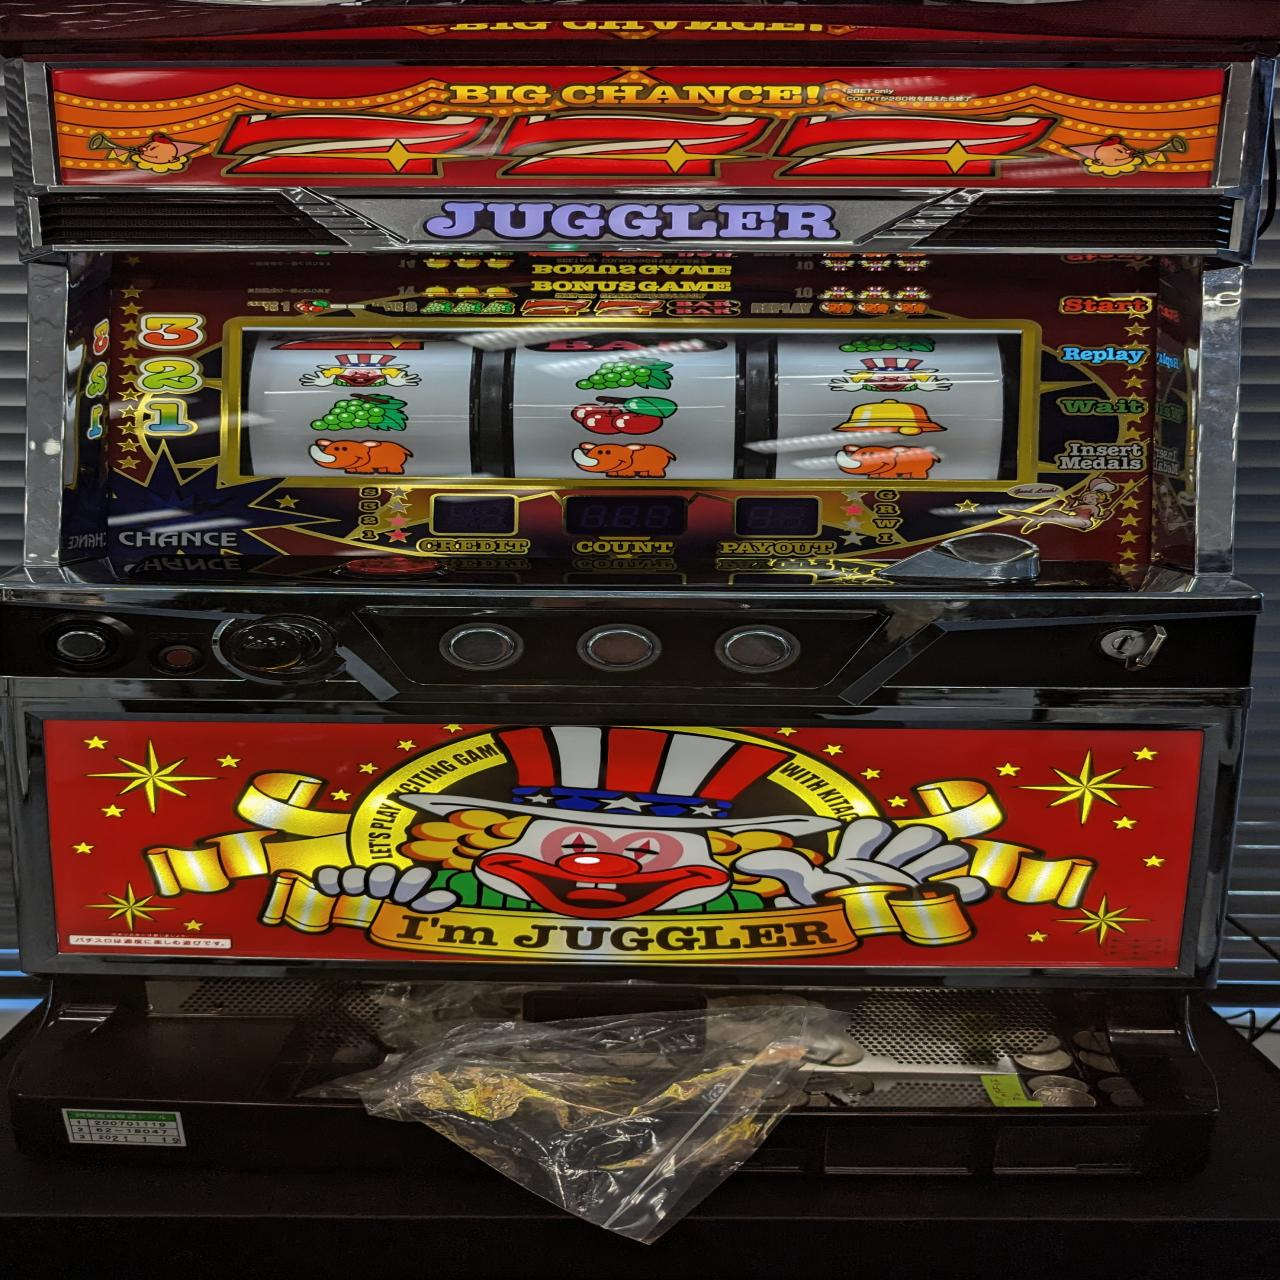Display: (229, 319, 1024, 486)
bell: (835, 396, 947, 436)
cherry: (570, 396, 678, 436)
clown: (825, 355, 954, 393), (297, 354, 425, 389)
grape: (312, 393, 413, 431), (573, 356, 676, 390)
rhino: (567, 441, 676, 478), (306, 438, 415, 474), (835, 445, 944, 478)
